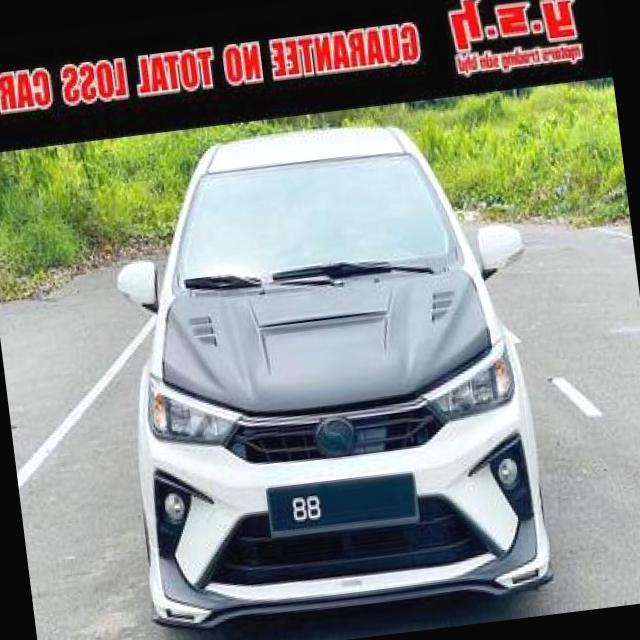PeroduaBezza: (94, 102, 566, 638)
